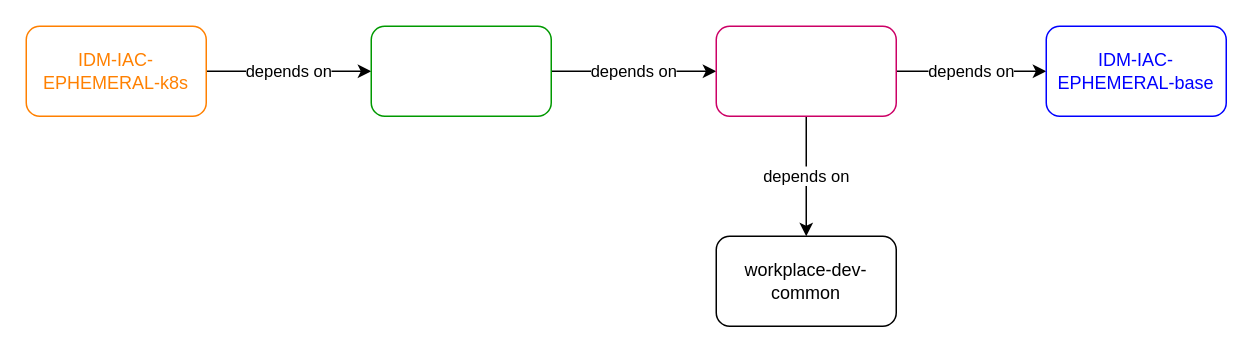
Image size: 1253x353. Some labels were removed from this diagram. The centre of each missing label's shape, as x and y in pixels:
"IDM-IAC-EPHEMERAL-aks" belongs at point 460,70.
"IDM-IAC-EPHEMERAL-frontend" belongs at point 805,70.
